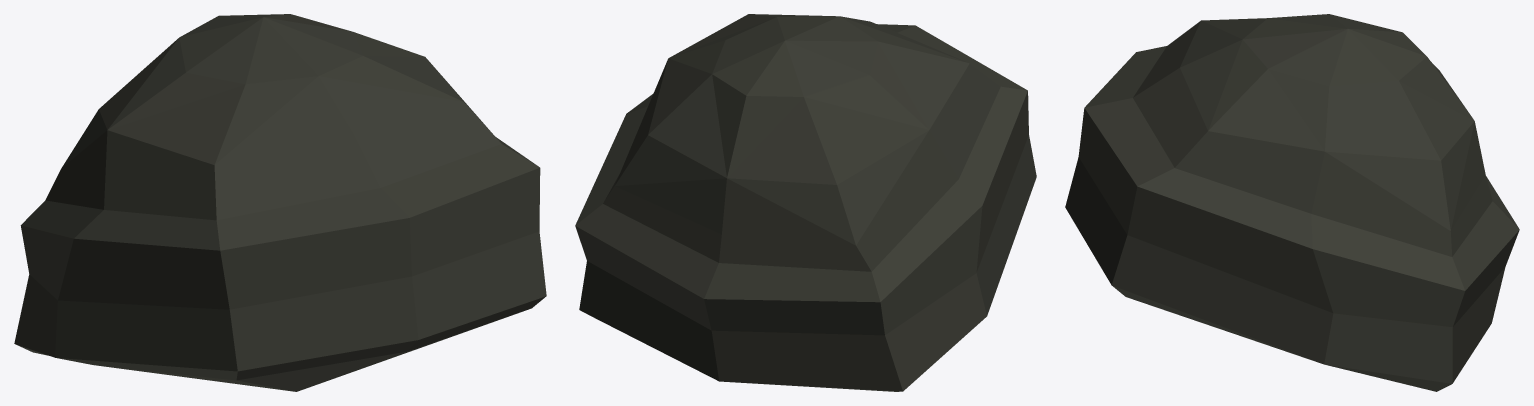
The model's file is SM_Chr_Attach_Beanie_01.fbx.
3 renders of one model, left to right at view 1: azimuth 30°, elevation 25°; view 2: azimuth 150°, elevation 25°; view 3: azimuth 270°, elevation 25°, orthographic. The views are drawn at different scales.
Visible parts, largest first — view 1: SM_Chr_Attach_Beanie_01; view 2: SM_Chr_Attach_Beanie_01; view 3: SM_Chr_Attach_Beanie_01.
Part boxes in pixels (x1,y1,x2,y2): SM_Chr_Attach_Beanie_01: [14, 14, 546, 391]; SM_Chr_Attach_Beanie_01: [575, 14, 1036, 391]; SM_Chr_Attach_Beanie_01: [1065, 14, 1519, 391].
Bounding box in the file's own units: 30.16 × 23.12 × 31.
